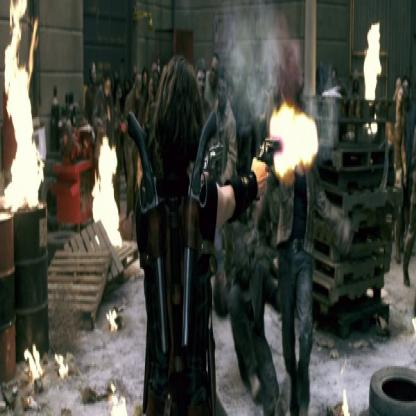Guns: (124, 100, 221, 361), (254, 134, 284, 206)
